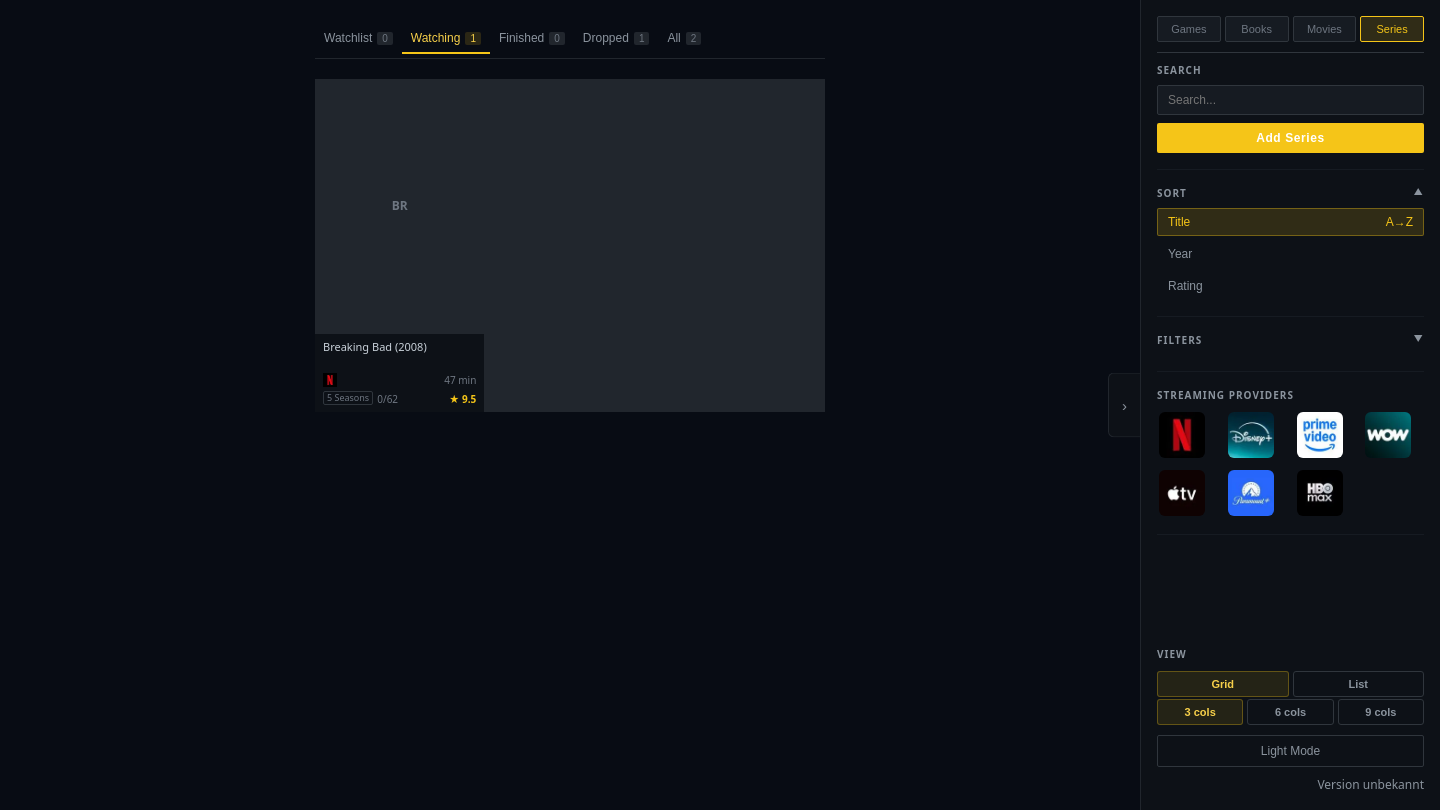
it: SeriesList – Filters & paused section › Dropped-Tab zeigt dropped Serien
The image size is (1440, 810).
What coordinates should you click on to do the following:
click the button with class "tab" showing "Dropped 1"
I would click on:
 (616, 39)
Its box is [574, 24, 658, 54].
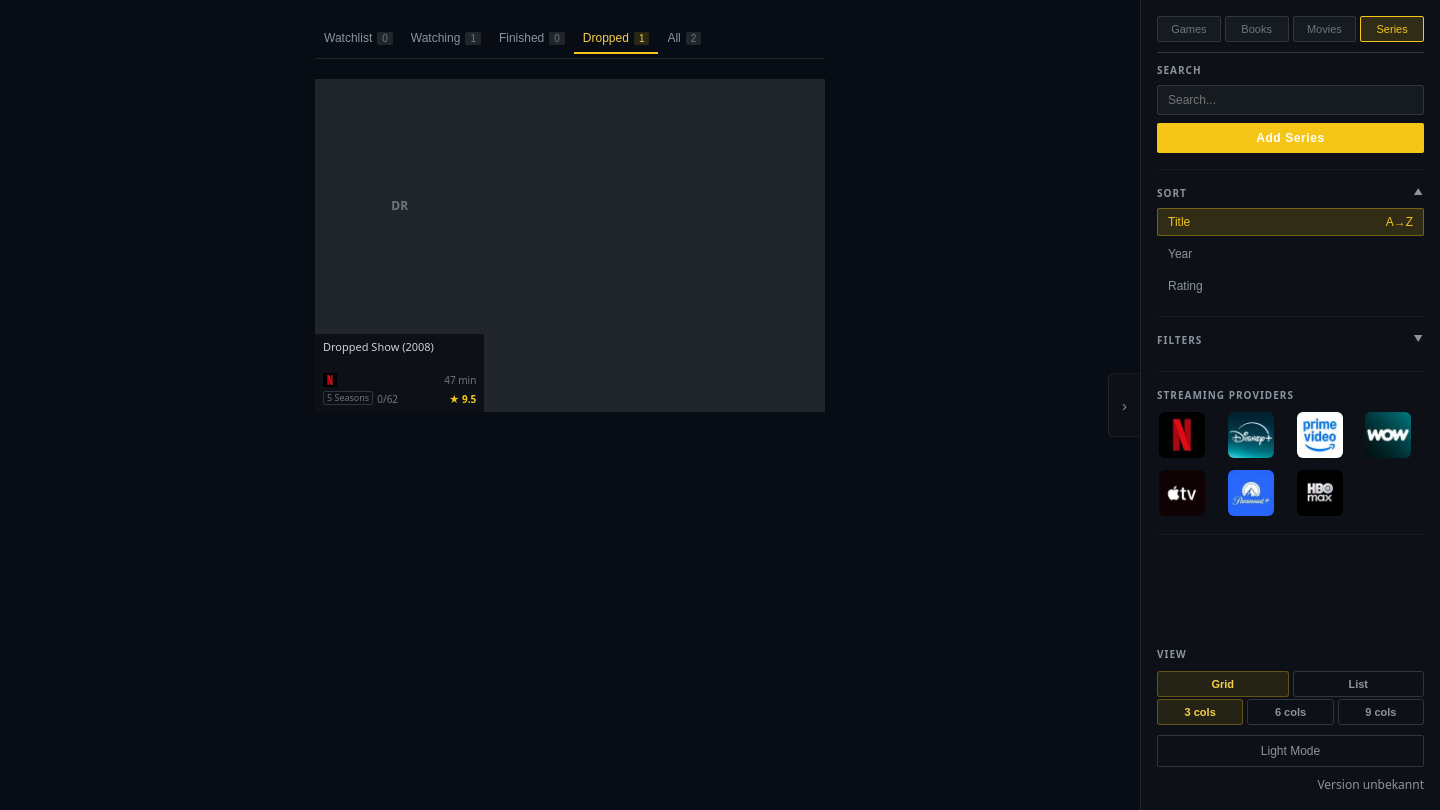
Now the text "Dropped Show" is shown, box [323, 339, 399, 354]
Now the text "Breaking Bad" is gone
